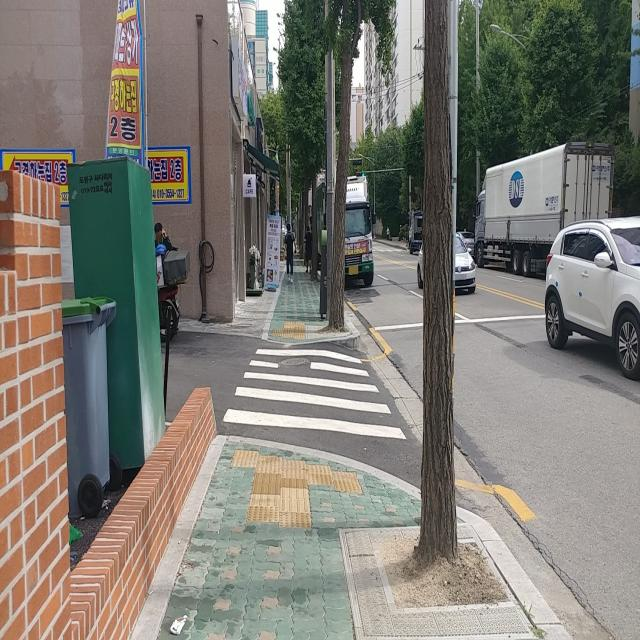횡단보도: (222, 346, 408, 442)
